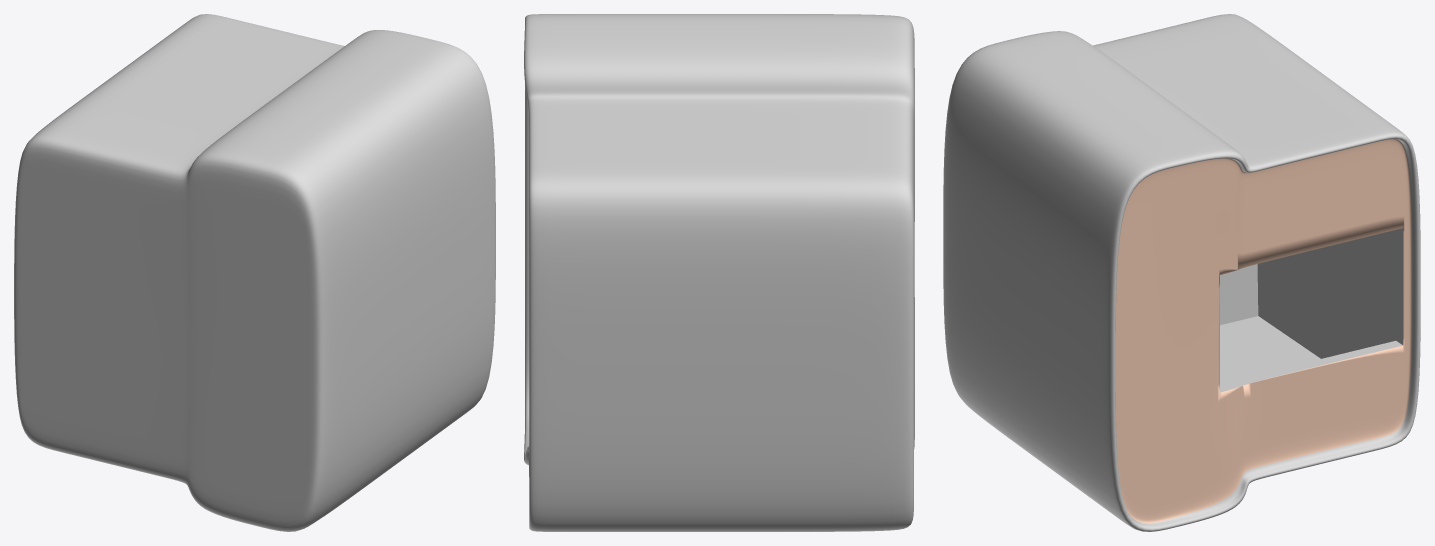
Rendered from House.fbx.
The picture shows the model from 3 angles, left to right: view 1: azimuth 30°, elevation 25°; view 2: azimuth 150°, elevation 25°; view 3: azimuth 270°, elevation 25°; orthographic projection. The views are drawn at different scales.
Parts seen in each view (by area): view 1: Bread; view 2: Bread; view 3: Bread.
Part boxes in pixels (bbox=[...]): Bread: bbox=[14, 14, 495, 531]; Bread: bbox=[524, 14, 914, 531]; Bread: bbox=[943, 14, 1420, 531].
Bounding box in the file's own units: 2.27 × 1.93 × 2.27.
